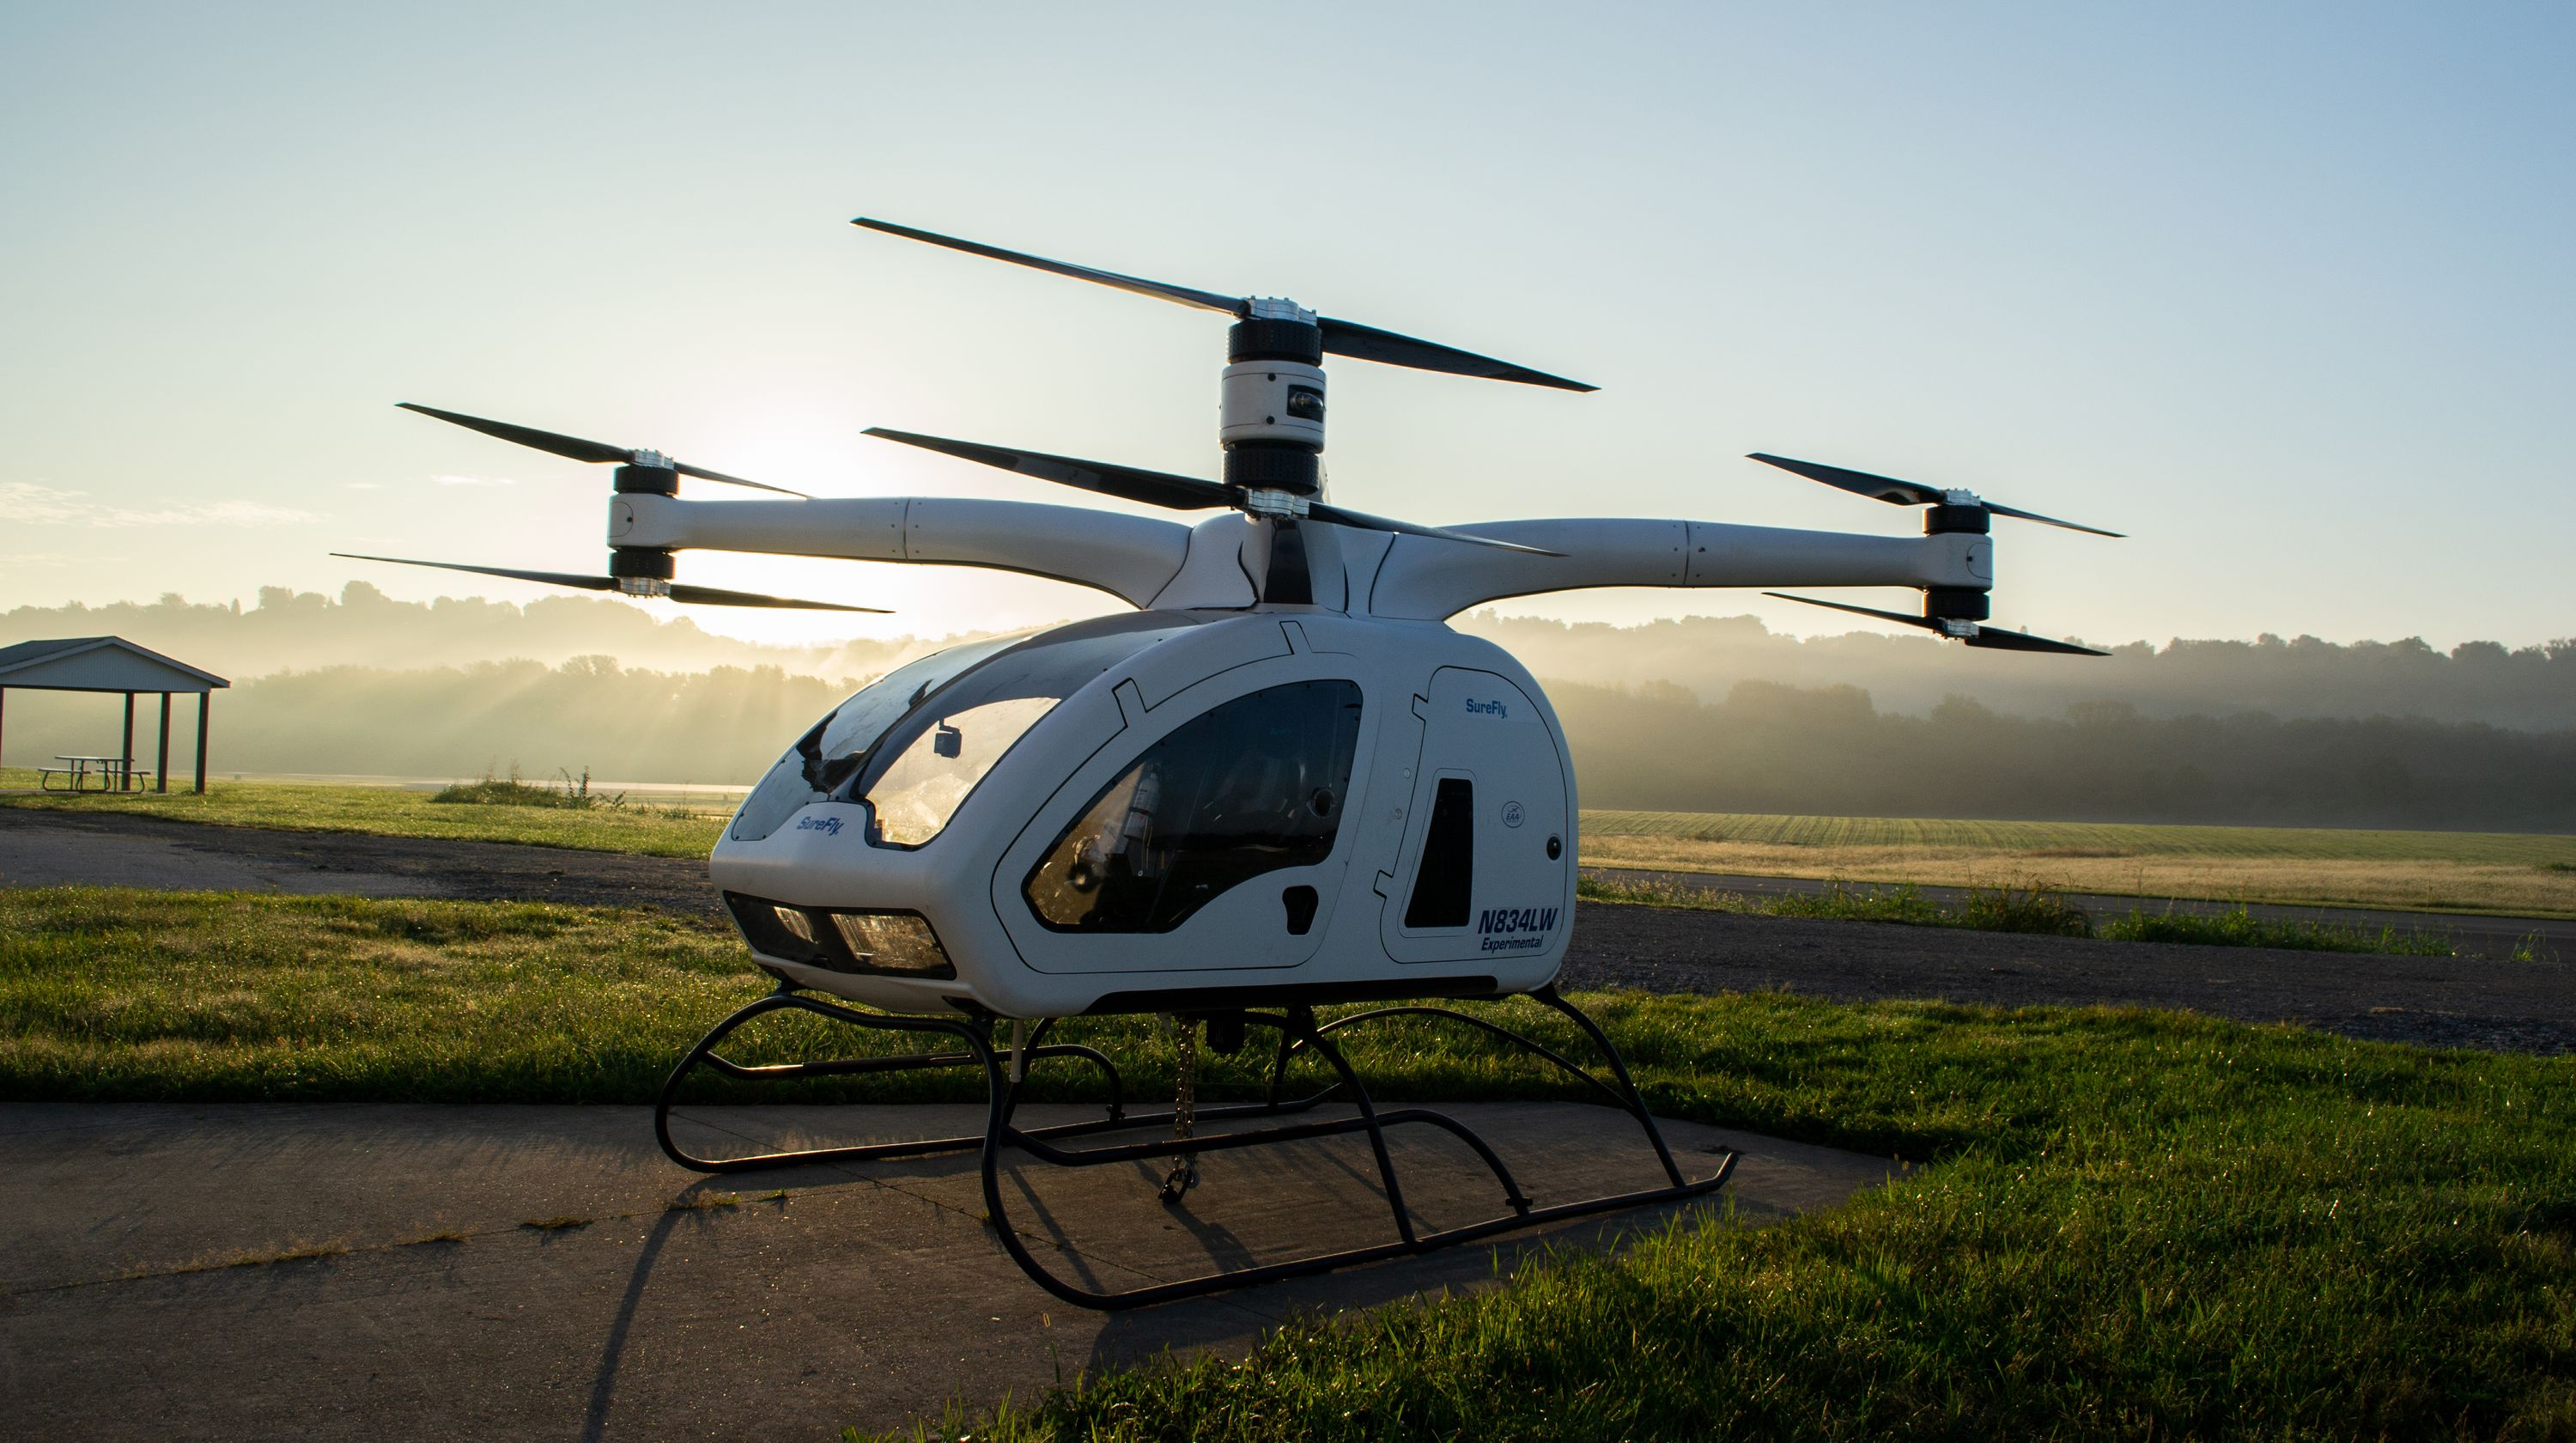Helicopter: (511, 432, 2075, 1285)
